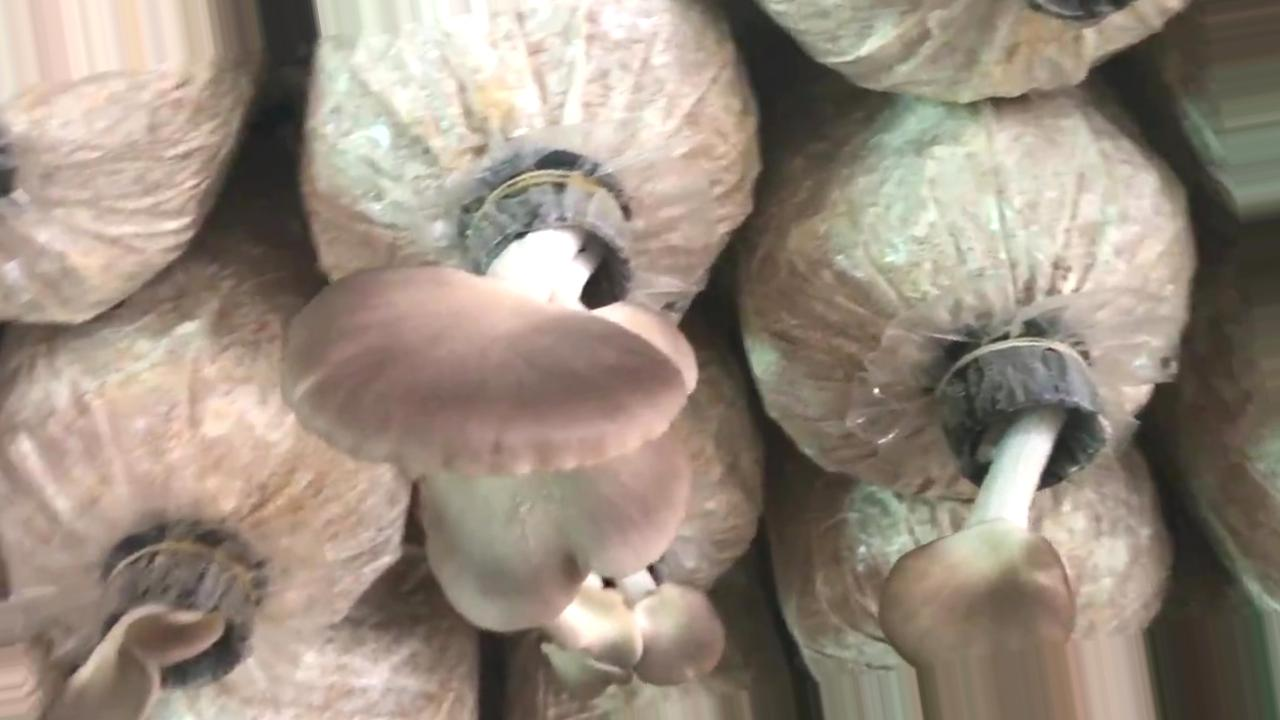nam: (281, 181, 697, 635), (882, 346, 1106, 720), (47, 542, 262, 719)
